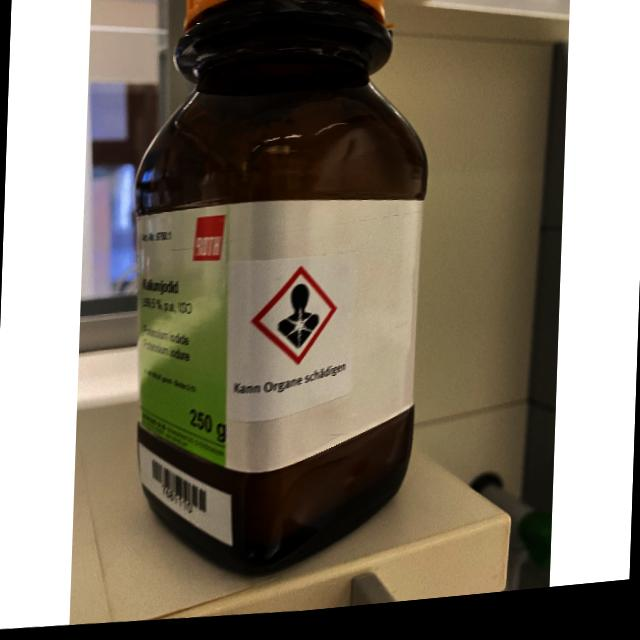serious health hazard: (276, 288, 320, 356)
